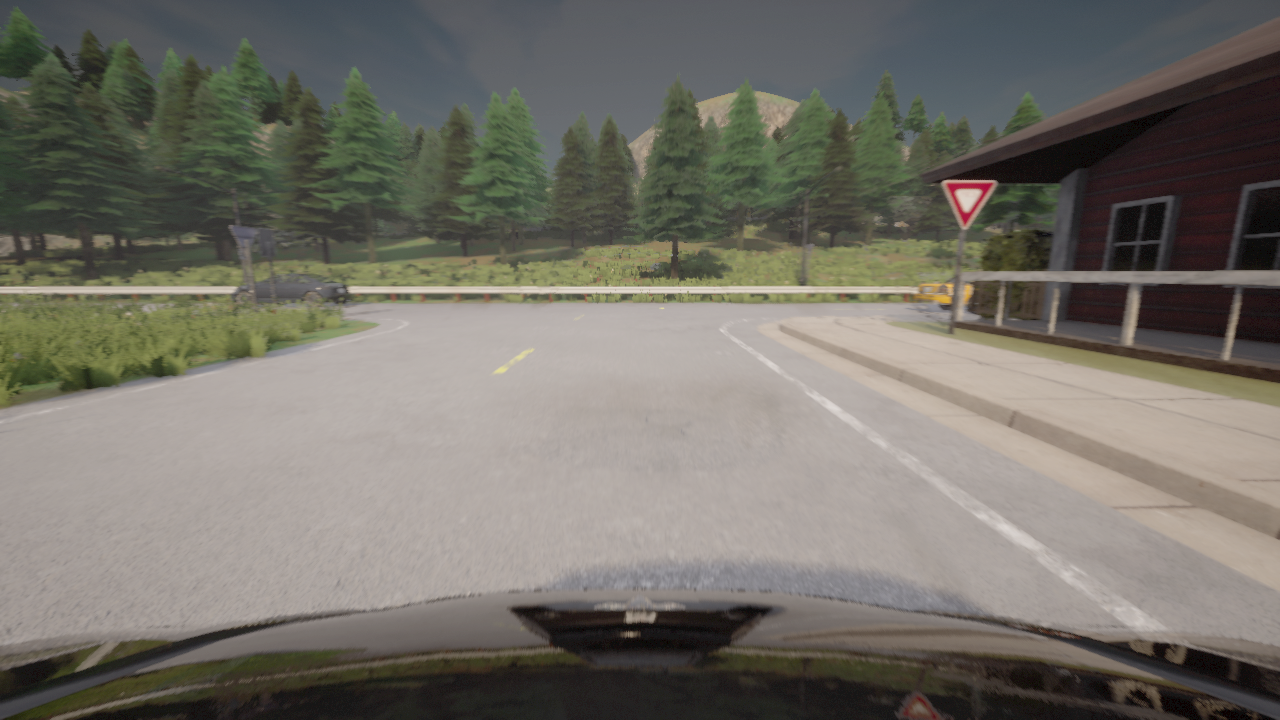cyclist: (0, 588, 1279, 719), (231, 273, 352, 307), (914, 270, 980, 313)
